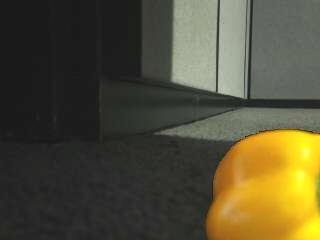Capsicum: (205, 130, 320, 240)
